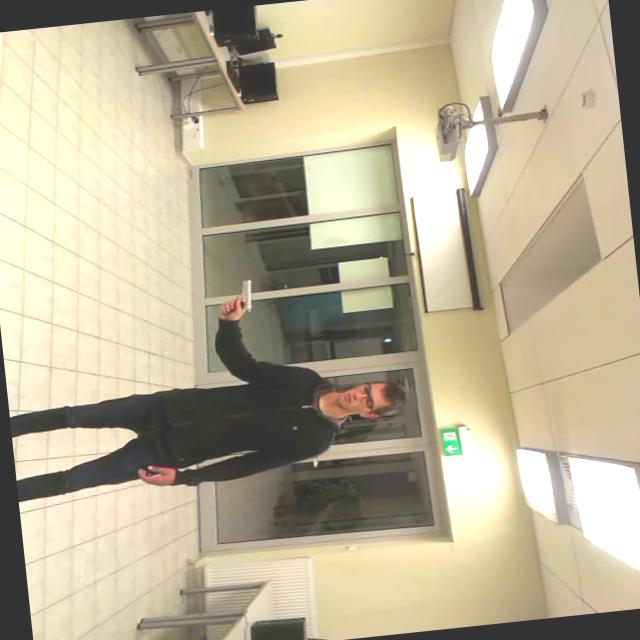handgun: (215, 272, 262, 325)
